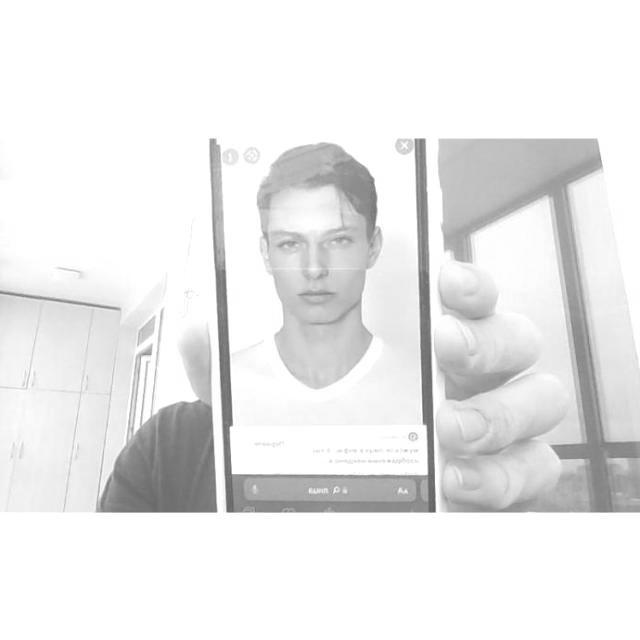fake: (190, 137, 456, 511)
